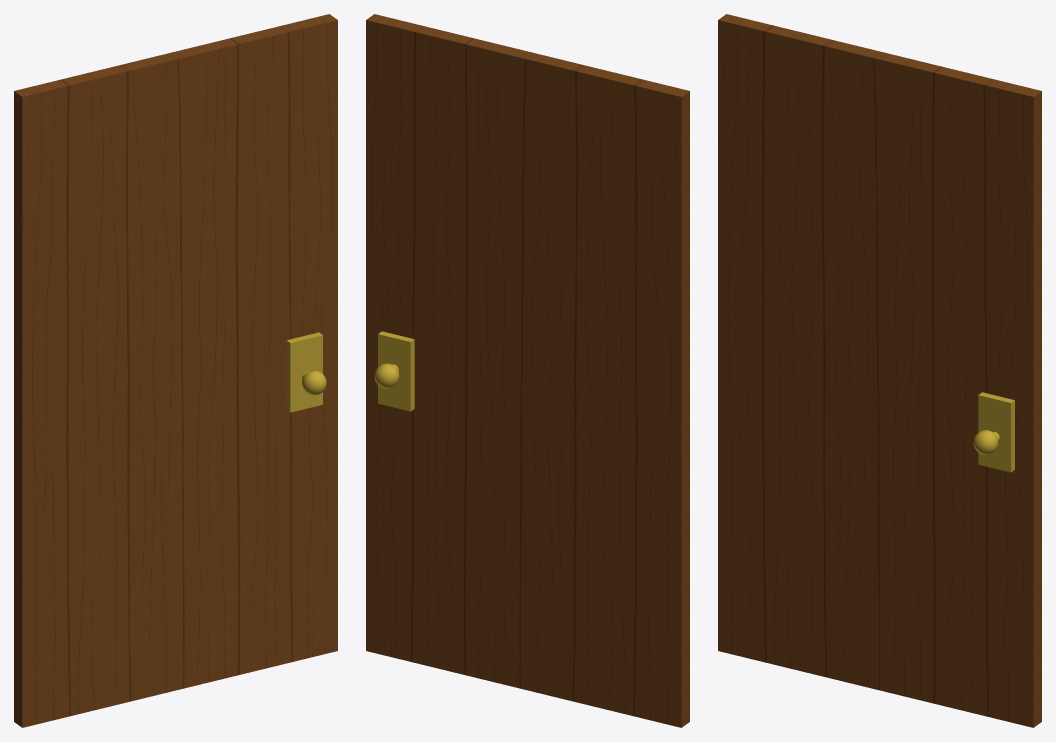
File: puertaMadera.obj
3 views of the same model, side by side, from view 1: azimuth 30°, elevation 25°; view 2: azimuth 150°, elevation 25°; view 3: azimuth 330°, elevation 25° (orthographic).
Visible parts, largest first — view 1: pCube33; view 2: pCube33; view 3: pCube33.
Part boxes in pixels (x1=…): pCube33: x1=14, y1=14, x2=337, y2=727; pCube33: x1=366, y1=14, x2=689, y2=727; pCube33: x1=718, y1=14, x2=1041, y2=727.
Size of the model in its own units: 6.33 by 12.1 by 1.56.
3 materials, 3 textured.
